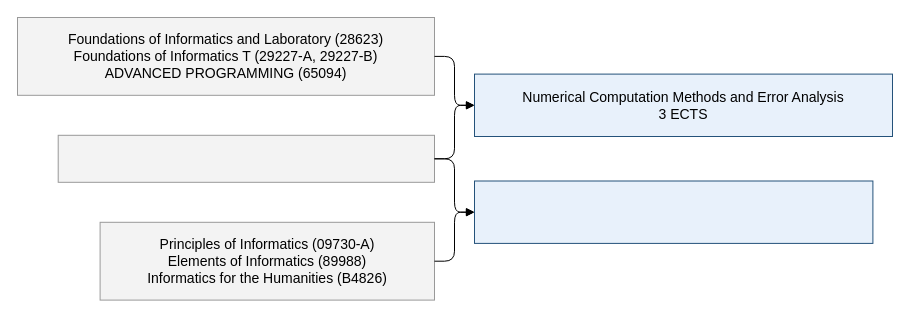
The diagram is 910 pixels wide and 318 high, and some of its shapes have lost their labels. The shapes that lost their labels are listed below. From the top down, each one's centre as x and y in pixels, then its label:
At (245,158): "Foundations of Computer Science T (93034-A)".
At (673,211): "Scientific Programming and Data Representation 6 ECTS".
